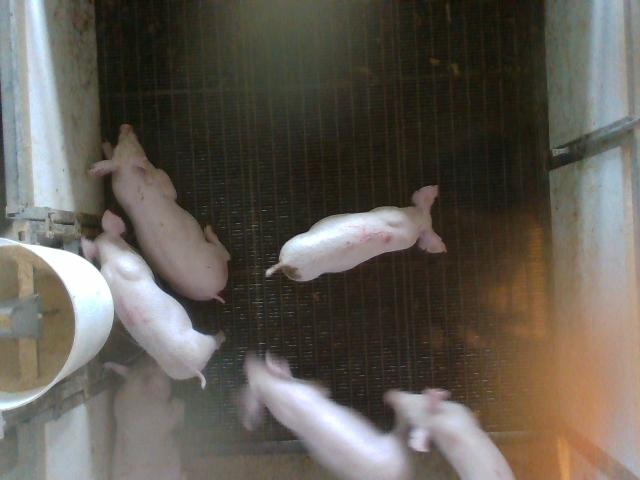pig-4: (81, 211, 224, 387)
pig-5: (265, 186, 446, 281)
